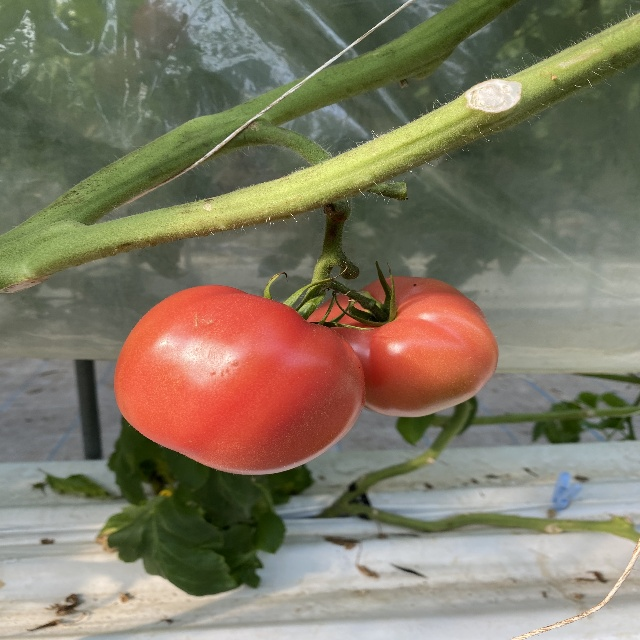b_fully_ripened: (114, 286, 366, 476), (305, 275, 497, 417)
